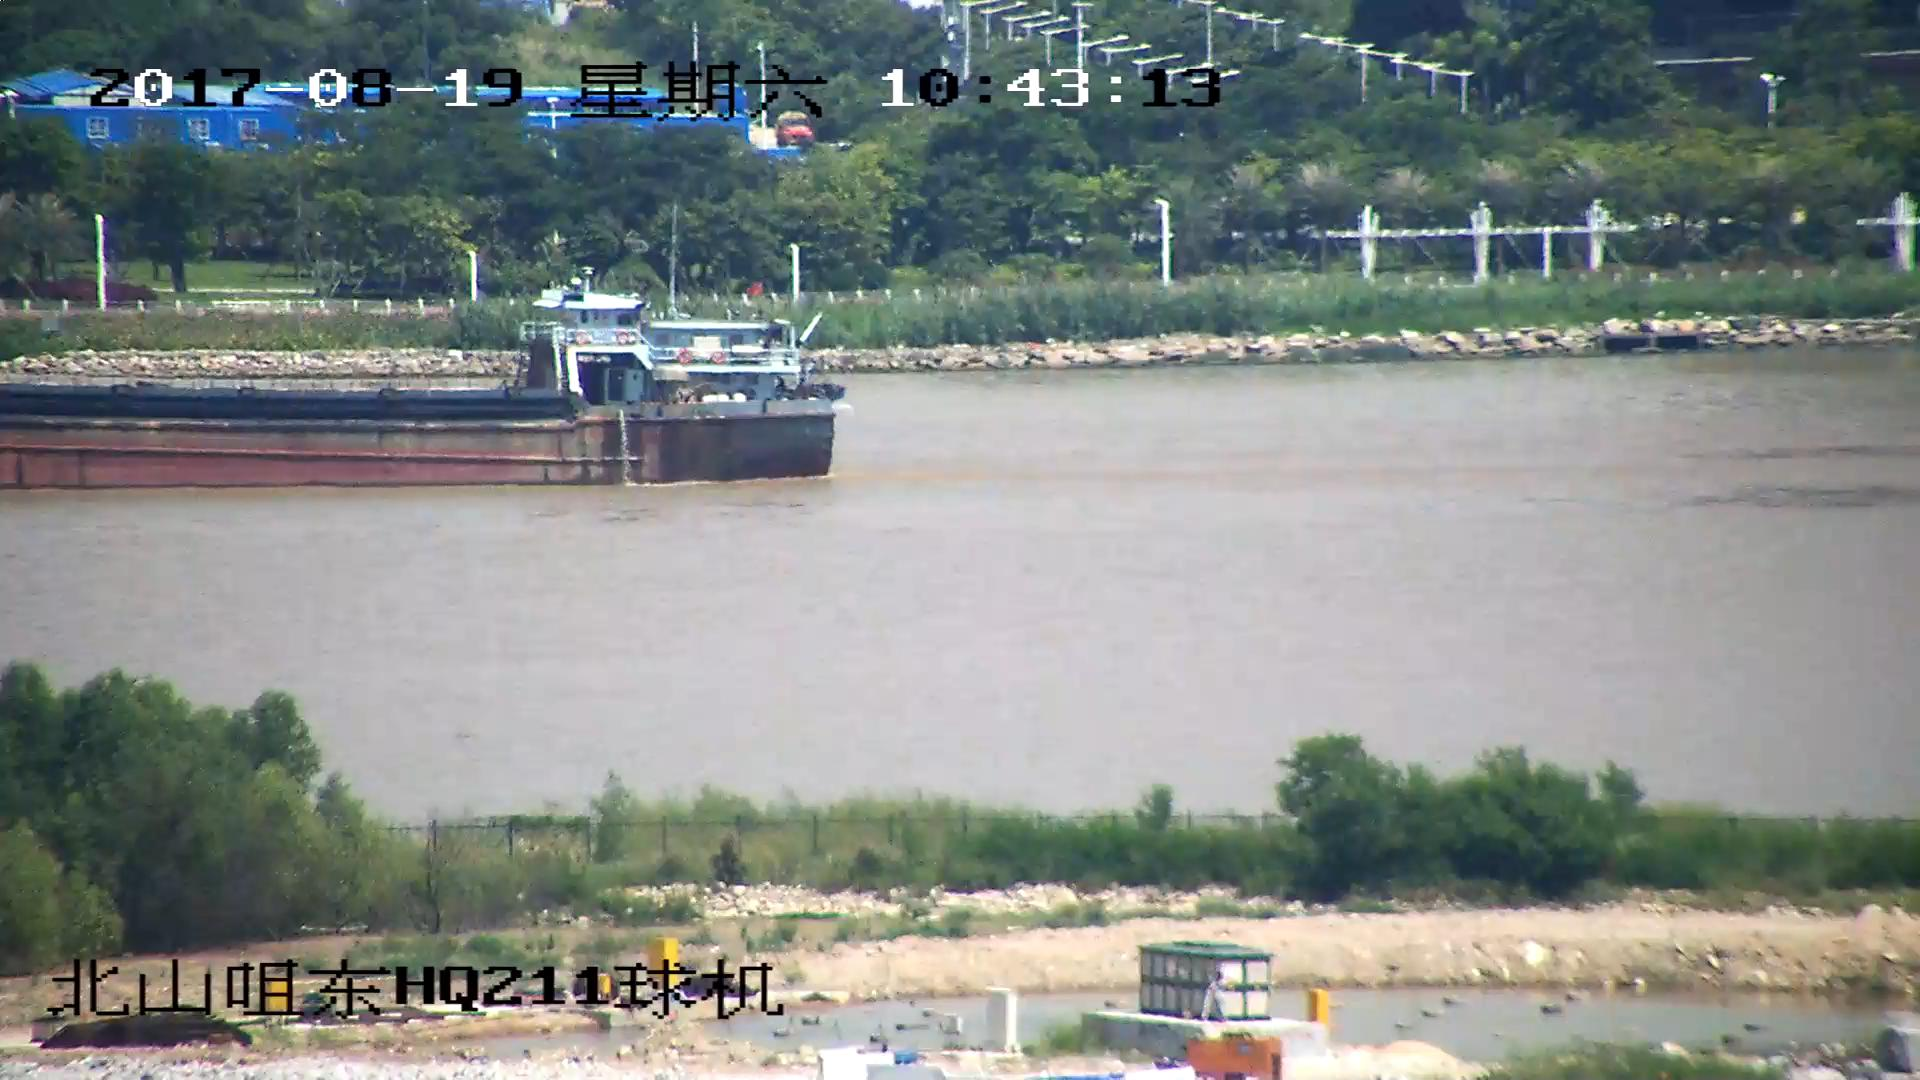bulk cargo carrier: (1, 268, 840, 488)
